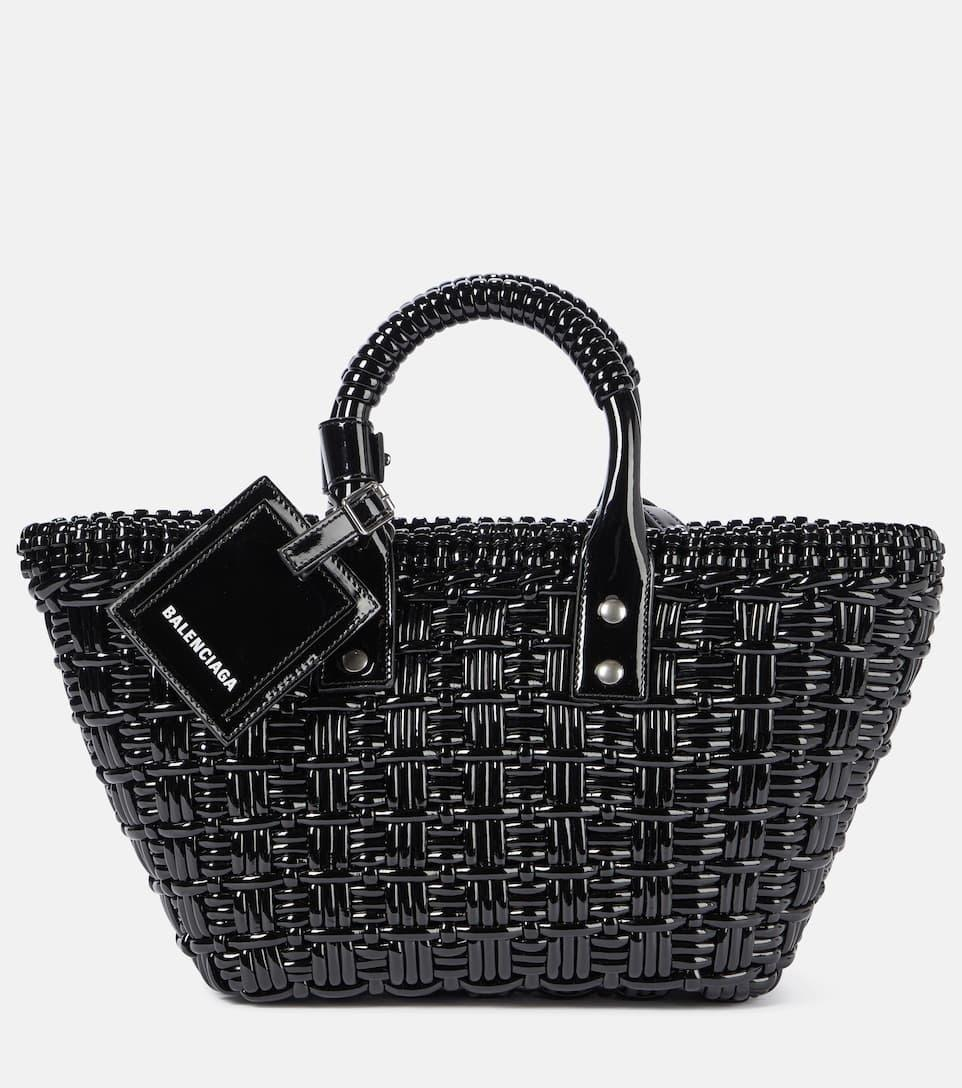BALENCIAGA: (161, 604, 238, 692)
